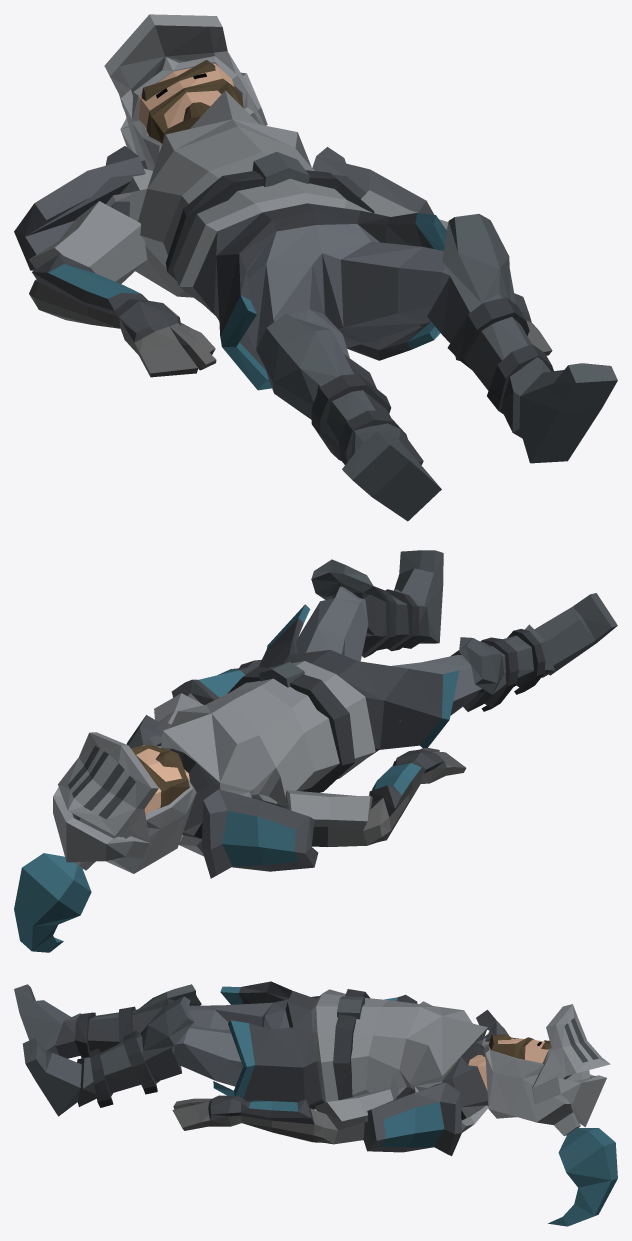
Rendered from prop_dead_knight.gltf.
3 renders of one model, top to bottom at view 1: azimuth 30°, elevation 25°; view 2: azimuth 150°, elevation 25°; view 3: azimuth 270°, elevation 25°, orthographic. The views are drawn at different scales.
Parts seen in each view (by area): view 1: prop_dead_knight; view 2: prop_dead_knight; view 3: prop_dead_knight.
Part boxes in pixels (x1,y1,x2,y2): prop_dead_knight: (14, 14, 617, 521); prop_dead_knight: (14, 550, 617, 952); prop_dead_knight: (14, 981, 617, 1226).
Bounding box in the file's own units: 0.9013 × 0.7014 × 1.91.
1 material, 1 textured.
